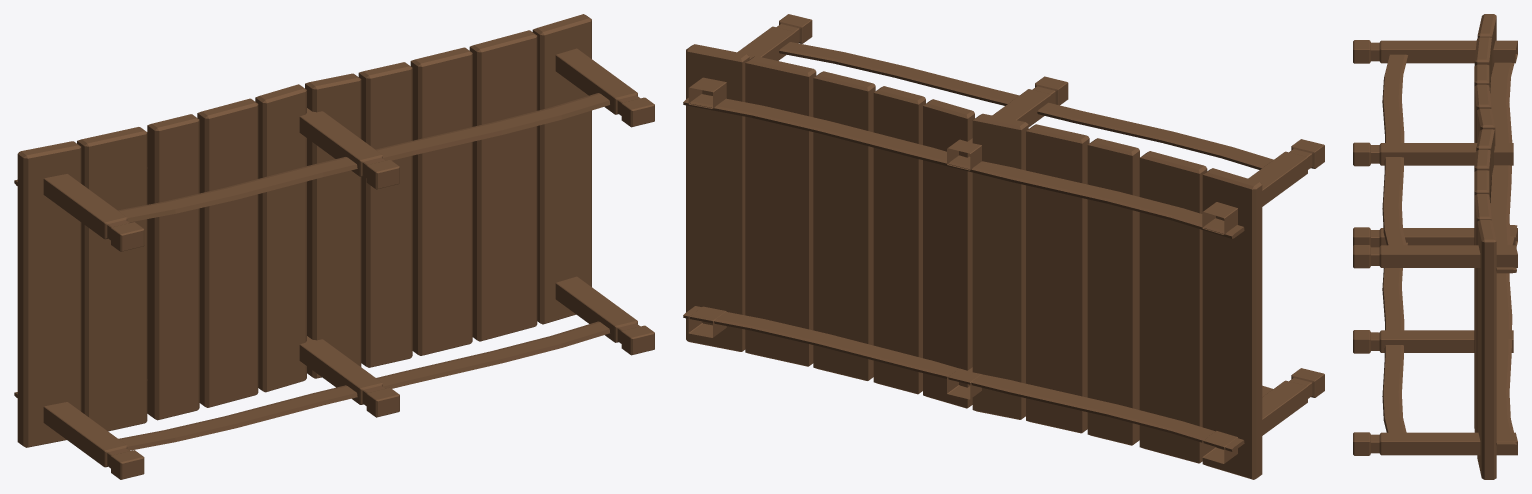
File: Bridge_06.fbx
The picture shows the model from 3 angles, left to right: view 1: azimuth 30°, elevation 25°; view 2: azimuth 150°, elevation 25°; view 3: azimuth 270°, elevation 25°; orthographic projection. The views are drawn at different scales.
Parts seen in each view (by area): view 1: Bridge_3; view 2: Bridge_3; view 3: Bridge_3.
Part boxes in pixels (bbox=[...]): Bridge_3: bbox=[14, 14, 654, 479]; Bridge_3: bbox=[683, 14, 1324, 479]; Bridge_3: bbox=[1353, 14, 1517, 479].
Bounding box in the file's own units: 363 × 178 × 111.
